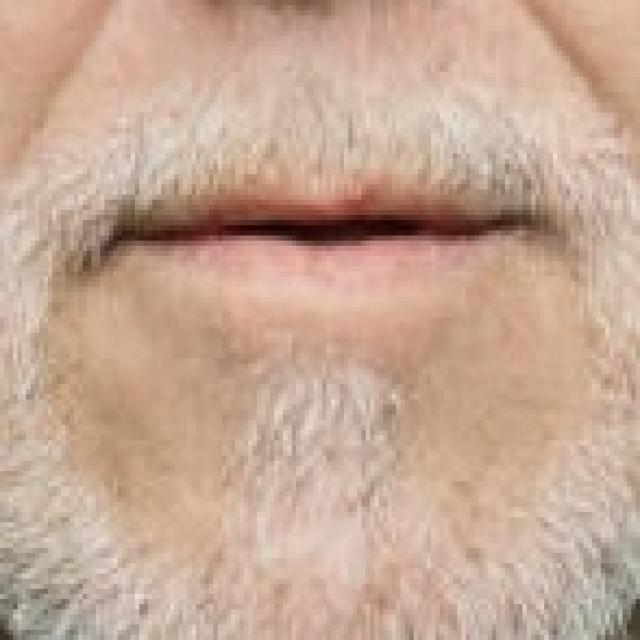closed-mouth: (105, 178, 544, 298)
